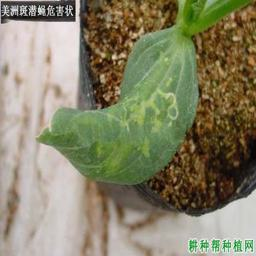liriomyza: (164, 91, 180, 120)
